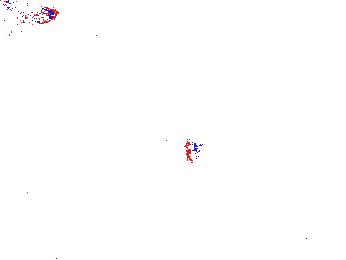X-ray fish: (43, 163, 99, 197), (152, 133, 199, 168)
red belly glassfish: (1, 1, 26, 12)
redtail glassfish: (1, 4, 58, 30)
